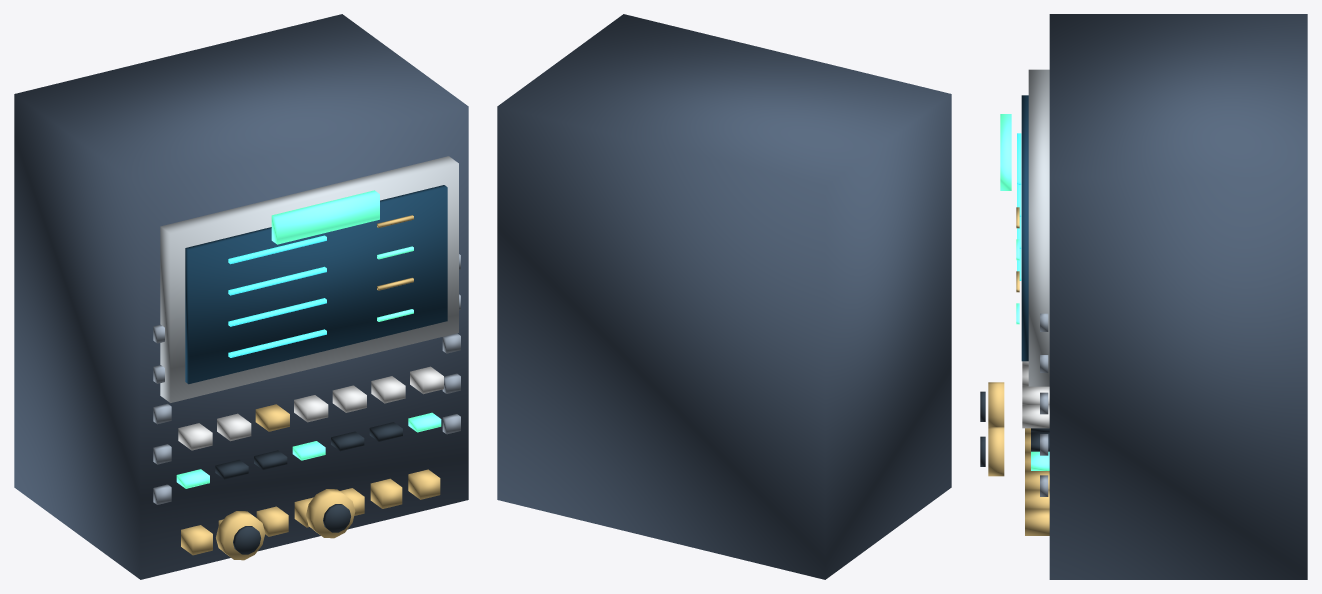
The model's file is 92_L90_W157CriticalNeutralizerPatchStation.fbx.
The picture shows the model from 3 angles, left to right: view 1: azimuth 30°, elevation 25°; view 2: azimuth 150°, elevation 25°; view 3: azimuth 270°, elevation 25°; orthographic projection. The views are drawn at different scales.
Parts seen in each view (by area): view 1: L90_W157CriticalNeutralizerPa_Part_0000, L90_W157CriticalNeutralizerPa_Part_0002, L90_W157CriticalNeutralizerPa_Part_0001, L90_W157CriticalNeutralizerPa_Part_0004, L90_W157CriticalNeutralizerPa_Part_0006, L90_W157CriticalNeutralizerPa_Part_0009, L90_W157CriticalNeutralizerPa_Part_0003, L90_W157CriticalNeutralizerPa_Part_0008, L90_W157CriticalNeutralizerPa_Part_0007, L90_W157CriticalNeutralizerPa_Part_0005, L90_W157CriticalNeutralizerPa_Part_0012, L90_W157CriticalNeutralizerPa_Part_0010 (+2 smaller); view 2: L90_W157CriticalNeutralizerPa_Part_0000; view 3: L90_W157CriticalNeutralizerPa_Part_0000, L90_W157CriticalNeutralizerPa_Part_0001, L90_W157CriticalNeutralizerPa_Part_0002, L90_W157CriticalNeutralizerPa_Part_0004, L90_W157CriticalNeutralizerPa_Part_0006, L90_W157CriticalNeutralizerPa_Part_0008, L90_W157CriticalNeutralizerPa_Part_0009, L90_W157CriticalNeutralizerPa_Part_0012, L90_W157CriticalNeutralizerPa_Part_0010, L90_W157CriticalNeutralizerPa_Part_0003, L90_W157CriticalNeutralizerPa_Part_0005.
Part boxes in pixels (left/top/right/bottom): L90_W157CriticalNeutralizerPa_Part_0000: left=14, top=14, right=468, bottom=579; L90_W157CriticalNeutralizerPa_Part_0002: left=185, top=185, right=447, bottom=384; L90_W157CriticalNeutralizerPa_Part_0001: left=160, top=156, right=458, bottom=402; L90_W157CriticalNeutralizerPa_Part_0004: left=181, top=215, right=440, bottom=555; L90_W157CriticalNeutralizerPa_Part_0006: left=178, top=366, right=443, bottom=450; L90_W157CriticalNeutralizerPa_Part_0009: left=271, top=190, right=379, bottom=244; L90_W157CriticalNeutralizerPa_Part_0003: left=228, top=235, right=326, bottom=357; L90_W157CriticalNeutralizerPa_Part_0008: left=153, top=254, right=460, bottom=504; L90_W157CriticalNeutralizerPa_Part_0007: left=215, top=422, right=402, bottom=479; L90_W157CriticalNeutralizerPa_Part_0005: left=176, top=246, right=441, bottom=488; L90_W157CriticalNeutralizerPa_Part_0012: left=306, top=489, right=355, bottom=538; L90_W157CriticalNeutralizerPa_Part_0010: left=216, top=511, right=265, bottom=560; L90_W157CriticalNeutralizerPa_Part_0000: left=497, top=14, right=951, bottom=579; L90_W157CriticalNeutralizerPa_Part_0000: left=1049, top=14, right=1307, bottom=579; L90_W157CriticalNeutralizerPa_Part_0001: left=1028, top=69, right=1049, bottom=386; L90_W157CriticalNeutralizerPa_Part_0002: left=1021, top=95, right=1028, bottom=361; L90_W157CriticalNeutralizerPa_Part_0004: left=1016, top=207, right=1049, bottom=535; L90_W157CriticalNeutralizerPa_Part_0006: left=1022, top=361, right=1049, bottom=428; L90_W157CriticalNeutralizerPa_Part_0008: left=1040, top=313, right=1048, bottom=496; L90_W157CriticalNeutralizerPa_Part_0009: left=1000, top=114, right=1011, bottom=190; L90_W157CriticalNeutralizerPa_Part_0012: left=988, top=427, right=1004, bottom=476; L90_W157CriticalNeutralizerPa_Part_0010: left=988, top=382, right=1004, bottom=427; L90_W157CriticalNeutralizerPa_Part_0003: left=1017, top=133, right=1021, bottom=280; L90_W157CriticalNeutralizerPa_Part_0005: left=1016, top=239, right=1049, bottom=470.
Size of the model in its own units: 1.02 by 1.17 by 0.862.
